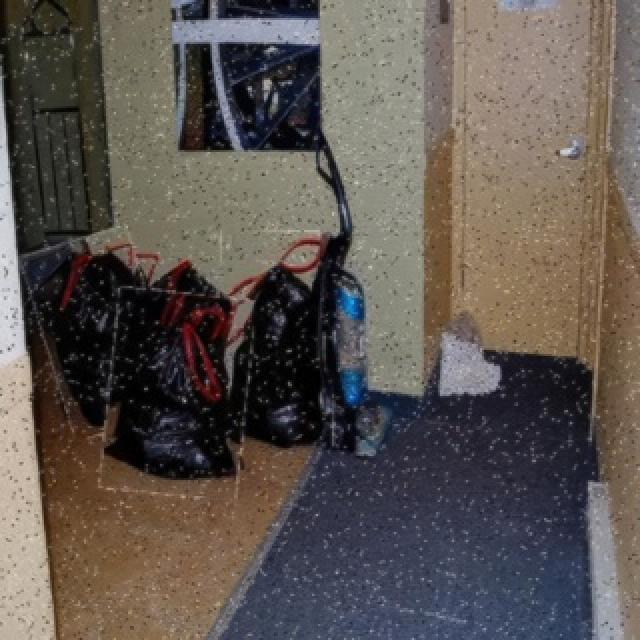high trash: (35, 226, 364, 476)
less trash: (438, 312, 501, 396)
